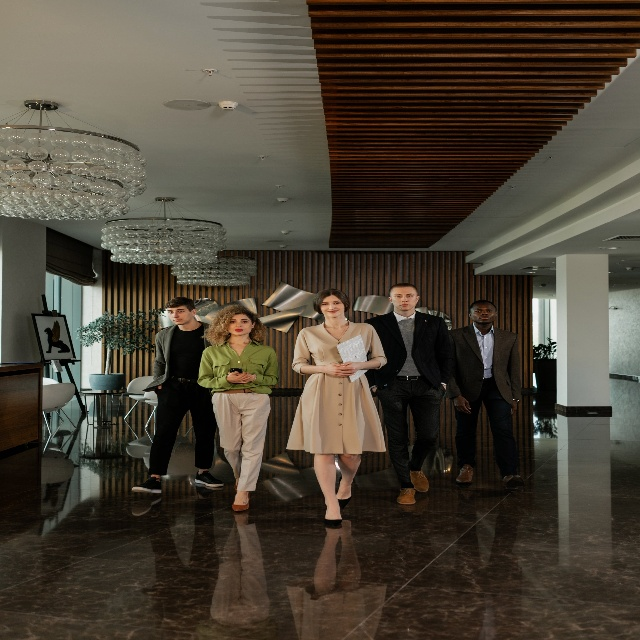Sin_guantes: (325, 361, 355, 377), (228, 370, 251, 386), (453, 396, 471, 415), (510, 399, 518, 416)
